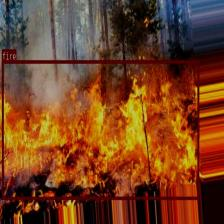fire: (2, 60, 199, 199)
